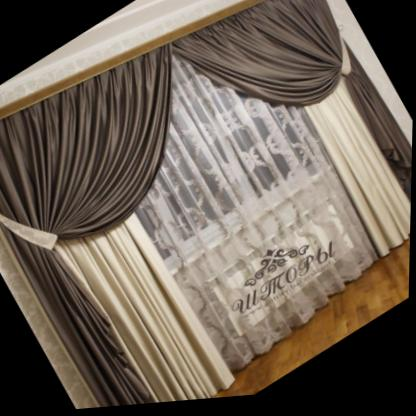Curtains: (0, 0, 413, 409)
Wooden floor: (214, 244, 411, 402)
